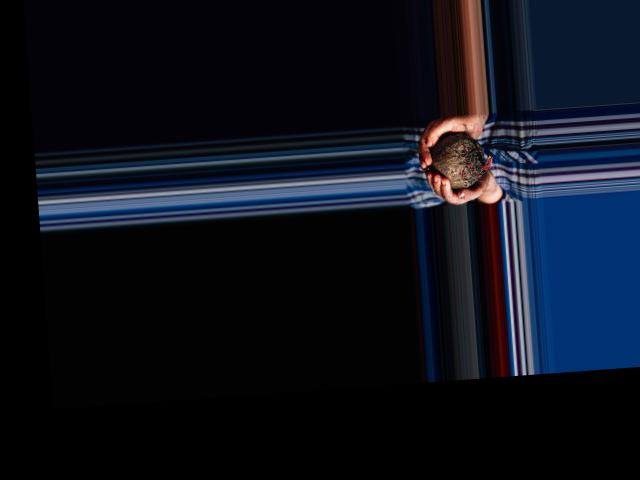beet: (429, 130, 495, 189)
